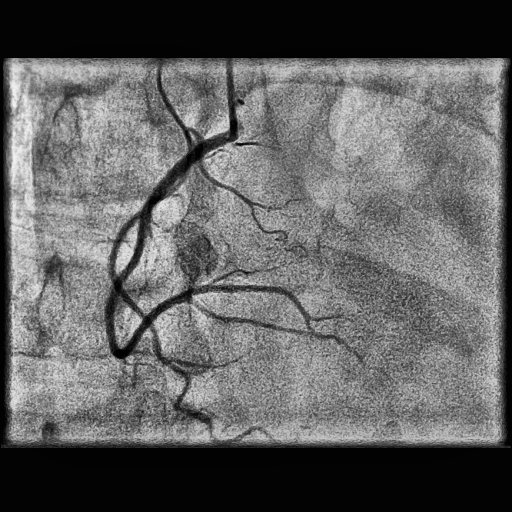pborca: (188, 285, 312, 331)
pda: (187, 297, 362, 363)
rca: (106, 129, 237, 359)
